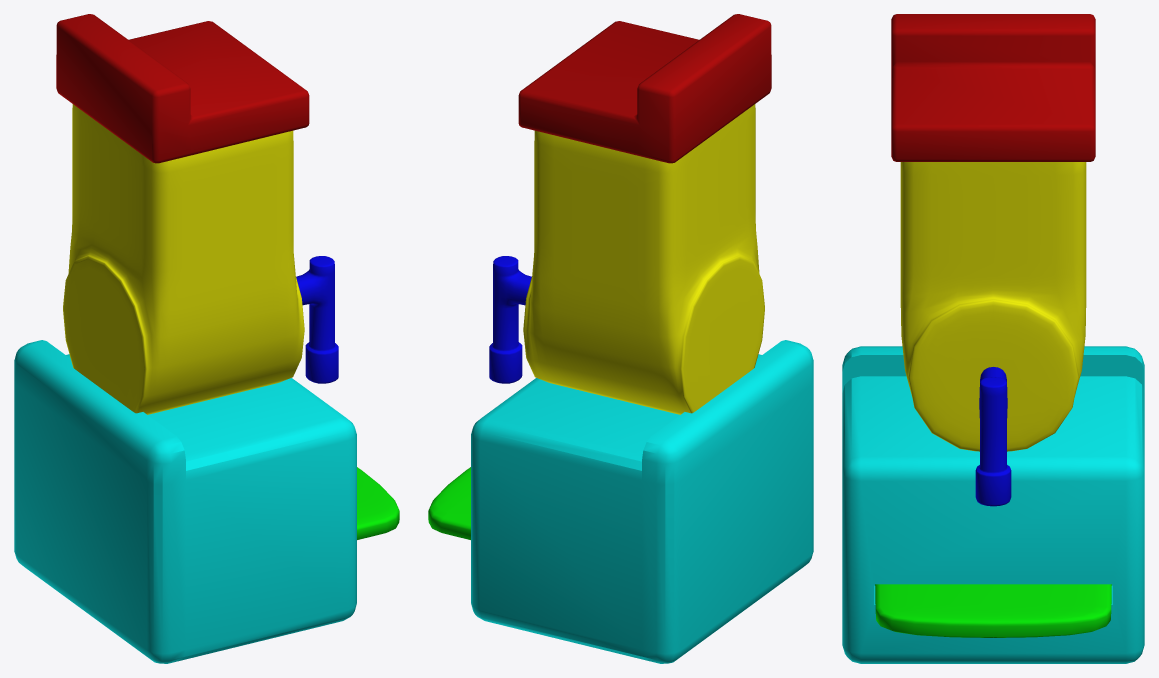
Rendered from maquina mapeado.fbx.
3 views of the same model, side by side, from view 1: azimuth 30°, elevation 25°; view 2: azimuth 150°, elevation 25°; view 3: azimuth 270°, elevation 25° (orthographic).
Parts seen in each view (by area): view 1: base, recipiente, tapa, grifo, bandeja; view 2: base, recipiente, tapa, grifo, bandeja; view 3: base, recipiente, tapa, bandeja, grifo.
Boxes of the visible parts, left/top/right/bottom form: base: left=14, top=340, right=356, bottom=663; recipiente: left=63, top=104, right=304, bottom=414; tapa: left=56, top=14, right=309, bottom=163; grifo: left=296, top=256, right=338, bottom=383; bandeja: left=357, top=467, right=399, bottom=539; base: left=471, top=340, right=813, bottom=663; recipiente: left=523, top=104, right=764, bottom=414; tapa: left=518, top=14, right=771, bottom=163; grifo: left=489, top=256, right=531, bottom=383; bandeja: left=428, top=467, right=470, bottom=539; base: left=842, top=346, right=1144, bottom=663; recipiente: left=900, top=162, right=1086, bottom=451; tapa: left=891, top=14, right=1095, bottom=161; bandeja: left=875, top=584, right=1111, bottom=637; grifo: left=975, top=367, right=1011, bottom=506.
Bounding box in the file's own units: 177 × 337 × 163.
